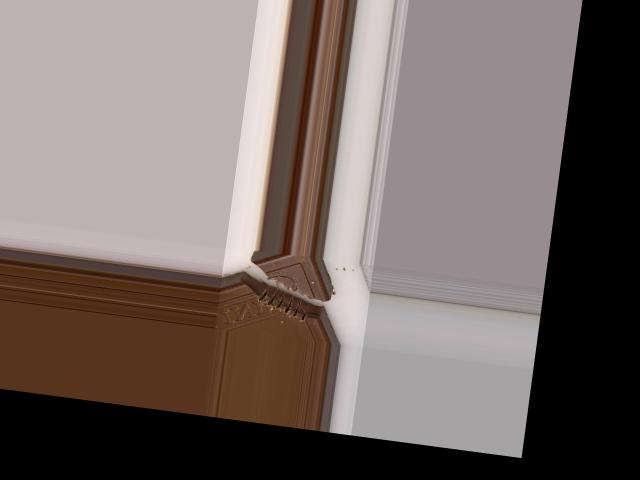chocolate: (215, 245, 352, 343)
